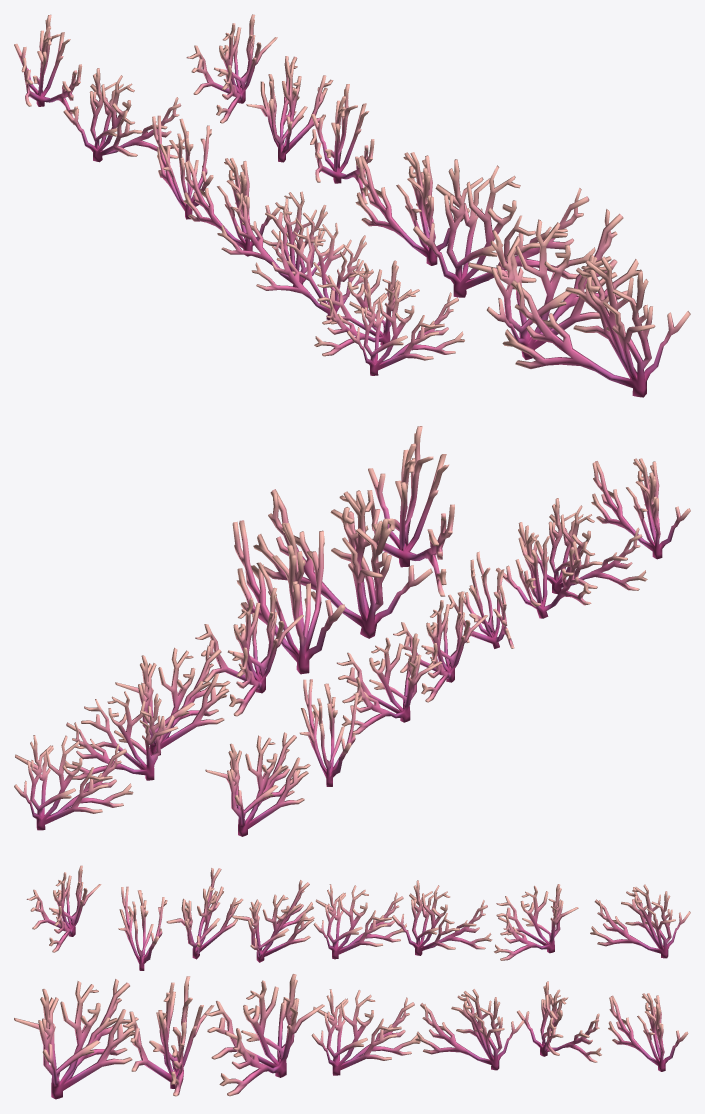
The model's file is stageObject_1.fbx.
The picture shows the model from 3 angles, top to bottom: view 1: azimuth 30°, elevation 25°; view 2: azimuth 150°, elevation 25°; view 3: azimuth 270°, elevation 25°; orthographic projection. The views are drawn at different scales.
Parts seen in each view (by area): view 1: sango1_1; view 2: sango1_1; view 3: sango1_1.
Part boxes in pixels (x1,y1,x2,y2): sango1_1: [14, 14, 690, 397]; sango1_1: [14, 426, 690, 836]; sango1_1: [14, 865, 690, 1099].
Size of the model in its own units: 178 by 81.4 by 361.
Materials: 1 (1 with a texture image).
